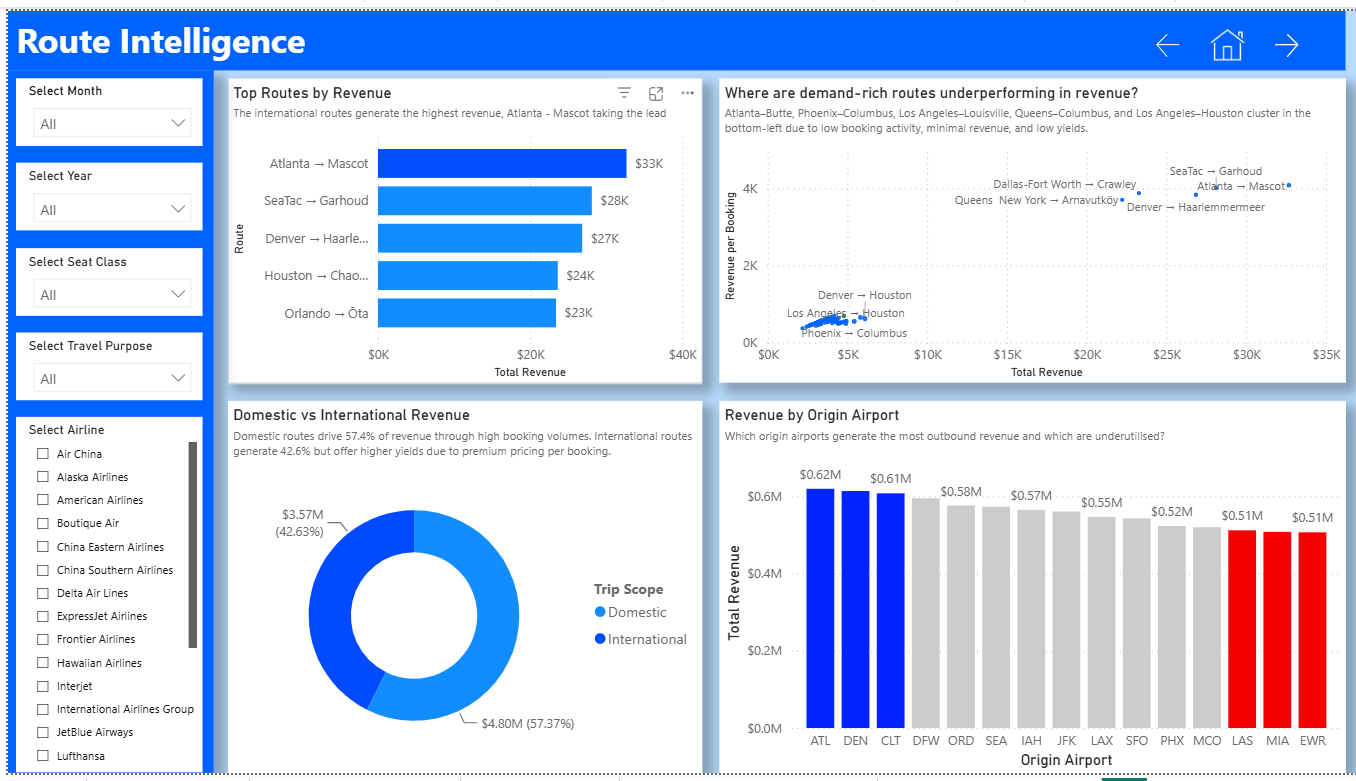

The dashboard page shown, as its layout file describes it:
{"tool":"powerbi","page":{"name":"Route Intelligence","canvas":[1280,720],"ordinal":3},"visuals":[{"type":"clusteredBarChart","title":"Top Routes by Revenue","fields":{"Category":["Flights.Route"],"Y":["_Measures.Total Revenue"]},"box":[208,64,448,288],"z":0},{"type":"shape","box":[0,56,194.5,664],"z":1000},{"type":"image","box":[1120,16,64,32],"z":2000},{"type":"slicer","title":"Select Month","fields":{"Values":["Date.Month Name"]},"box":[8,64,176,64],"z":3000,"group":"g1"},{"type":"scatterChart","title":"Where are demand-rich routes underperforming in revenue?","fields":{"Category":["Flights.Route"],"X":["_Measures.Total Revenue"],"Y":["_Measures.Revenue per Booking"],"Size":["_Measures.Total Bookings"]},"box":[672,64,592,288],"z":3000},{"type":"textbox","box":[0,0,1264,56],"z":4000},{"type":"slicer","title":"Select Year","fields":{"Values":["Date.Year"]},"box":[8,144,176,64],"z":4000,"group":"g1"},{"type":"actionButton","box":[1184,16,48,32],"z":5000},{"type":"slicer","title":"Select Seat Class","fields":{"Values":["Flights.Seat class"]},"box":[8,224,176,64],"z":5000,"group":"g1"},{"type":"slicer","title":"Select Travel Purpose","fields":{"Values":["Flights.Travel Purpose"]},"box":[8,304,176,64],"z":6000,"group":"g1"},{"type":"donutChart","title":"Domestic vs International Revenue","fields":{"Category":["Flights.Trip Scope"],"Y":["_Measures.Total Revenue"]},"box":[208,368,448,352],"z":6000},{"type":"group","id":"g1","title":"Group 2","box":[8,64,176,656],"z":7000},{"type":"slicer","title":"Select Airline","fields":{"Values":["Flights.Airlines"]},"box":[8,384,176,336],"z":7000,"group":"g1"},{"type":"actionButton","box":[1072,16,48,32],"z":8000},{"type":"image","box":[1120,16,64,32],"z":9000},{"type":"actionButton","box":[1184,16,48,32],"z":10000},{"type":"clusteredColumnChart","title":"Revenue by Origin Airport","fields":{"Category":["Flights.Origin Airport"],"Y":["_Measures.Total Revenue"]},"box":[672,368,592,352],"z":11000}]}

Visuals, with their boxes in screenshot pixels (x1, y1, x2, y2), scaled from the page's 1280x720 canvas onto the 1356x781 screenshot:
"Top Routes by Revenue" clusteredBarChart: 220 69 695 382
shape: 0 61 206 780
image: 1186 17 1254 52
"Select Month" slicer: 8 69 195 139
"Where are demand-rich routes underperforming in revenue?" scatterChart: 712 69 1339 382
textbox: 0 0 1339 61
"Select Year" slicer: 8 156 195 226
actionButton: 1254 17 1305 52
"Select Seat Class" slicer: 8 243 195 312
"Select Travel Purpose" slicer: 8 330 195 399
"Domestic vs International Revenue" donutChart: 220 399 695 780
"Group 2" group: 8 69 195 780
"Select Airline" slicer: 8 417 195 780
actionButton: 1136 17 1186 52
image: 1186 17 1254 52
actionButton: 1254 17 1305 52
"Revenue by Origin Airport" clusteredColumnChart: 712 399 1339 780
